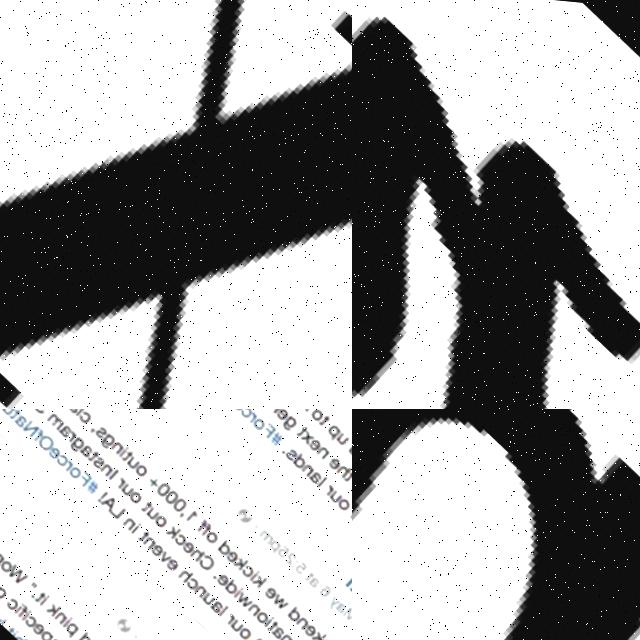1: (294, 550, 308, 566), (278, 534, 292, 550)
2: (318, 571, 334, 589)
A: (100, 485, 120, 507), (208, 589, 226, 608), (308, 459, 324, 476), (79, 436, 95, 453), (59, 417, 75, 434), (272, 613, 287, 631), (13, 409, 28, 425), (335, 590, 349, 605), (309, 565, 323, 580), (256, 631, 271, 640)
B: (15, 626, 29, 640)
C: (197, 542, 219, 566), (173, 523, 190, 541), (55, 446, 71, 464), (5, 591, 21, 608), (241, 553, 256, 571), (186, 567, 201, 584), (24, 608, 39, 625), (77, 409, 92, 419)
D: (292, 441, 309, 460), (218, 530, 235, 549), (225, 568, 242, 587), (287, 595, 304, 613), (78, 623, 95, 640)
E: (326, 443, 344, 462), (215, 561, 233, 580), (181, 530, 198, 548), (263, 575, 280, 592), (303, 611, 319, 628), (224, 539, 240, 556), (308, 426, 323, 443), (166, 549, 181, 566), (48, 439, 63, 456), (33, 616, 48, 633), (318, 625, 334, 640), (151, 535, 165, 550), (325, 632, 341, 640)
F: (260, 411, 277, 430), (77, 464, 93, 483), (200, 514, 214, 530), (32, 423, 46, 439), (17, 599, 31, 615), (197, 510, 210, 525), (349, 492, 352, 508)
G: (68, 428, 88, 449), (100, 425, 117, 444), (280, 409, 300, 424), (0, 580, 9, 599)
H: (335, 448, 352, 467), (178, 557, 195, 576), (190, 536, 207, 554)
I: (232, 575, 247, 591), (249, 558, 263, 574), (117, 437, 131, 453), (264, 603, 278, 619), (131, 512, 145, 528), (109, 460, 122, 475), (14, 596, 27, 610), (40, 588, 52, 602), (63, 609, 74, 623), (22, 602, 33, 616), (12, 624, 22, 634), (345, 562, 352, 576)
K: (311, 616, 329, 636), (165, 513, 183, 533), (253, 562, 270, 580), (234, 544, 250, 562), (46, 594, 62, 612)
L: (109, 493, 128, 514), (318, 464, 329, 478), (218, 595, 229, 609), (0, 611, 9, 622)
M: (46, 409, 66, 426), (259, 519, 276, 537), (342, 593, 352, 614), (138, 630, 155, 640), (0, 543, 6, 562)
N: (352, 0, 640, 409), (352, 409, 640, 640), (22, 413, 41, 434), (301, 451, 317, 469), (110, 432, 126, 449), (280, 621, 296, 638), (100, 454, 116, 471), (123, 508, 138, 526), (296, 604, 311, 621), (143, 527, 158, 544), (55, 604, 70, 621), (194, 575, 209, 590), (317, 434, 331, 449), (248, 593, 262, 608), (292, 632, 307, 640), (87, 633, 103, 640)
O: (37, 426, 58, 448), (237, 615, 255, 634), (128, 481, 146, 499), (205, 520, 221, 537), (135, 456, 151, 472), (154, 505, 169, 522), (69, 458, 84, 475), (338, 485, 352, 500), (257, 600, 271, 615), (252, 409, 267, 422), (1, 555, 14, 569)
P: (325, 412, 343, 432), (63, 614, 81, 634), (37, 622, 55, 640), (268, 528, 283, 545)
R: (323, 472, 337, 487), (115, 469, 128, 483), (226, 604, 239, 618), (63, 453, 76, 467), (67, 424, 79, 438), (245, 409, 259, 414)
S: (94, 418, 110, 435), (92, 448, 108, 465), (285, 437, 299, 452), (48, 629, 63, 640)
T: (86, 441, 101, 458), (121, 441, 136, 457), (296, 413, 310, 429), (267, 607, 281, 623), (140, 491, 154, 507), (34, 584, 48, 600), (304, 559, 317, 574), (138, 522, 151, 537), (251, 626, 264, 640), (343, 457, 352, 473), (316, 409, 331, 418), (7, 619, 18, 631), (8, 409, 22, 417)
U: (120, 474, 136, 491), (329, 477, 344, 494), (202, 581, 217, 598), (336, 421, 350, 436), (126, 448, 140, 463), (147, 498, 161, 513), (232, 609, 246, 624), (347, 430, 352, 447)
V: (159, 543, 173, 558)
W: (7, 558, 30, 583), (271, 582, 291, 603), (236, 581, 255, 601)
X: (0, 0, 352, 409), (301, 418, 316, 436)
Y: (326, 582, 343, 601), (0, 607, 4, 619)
